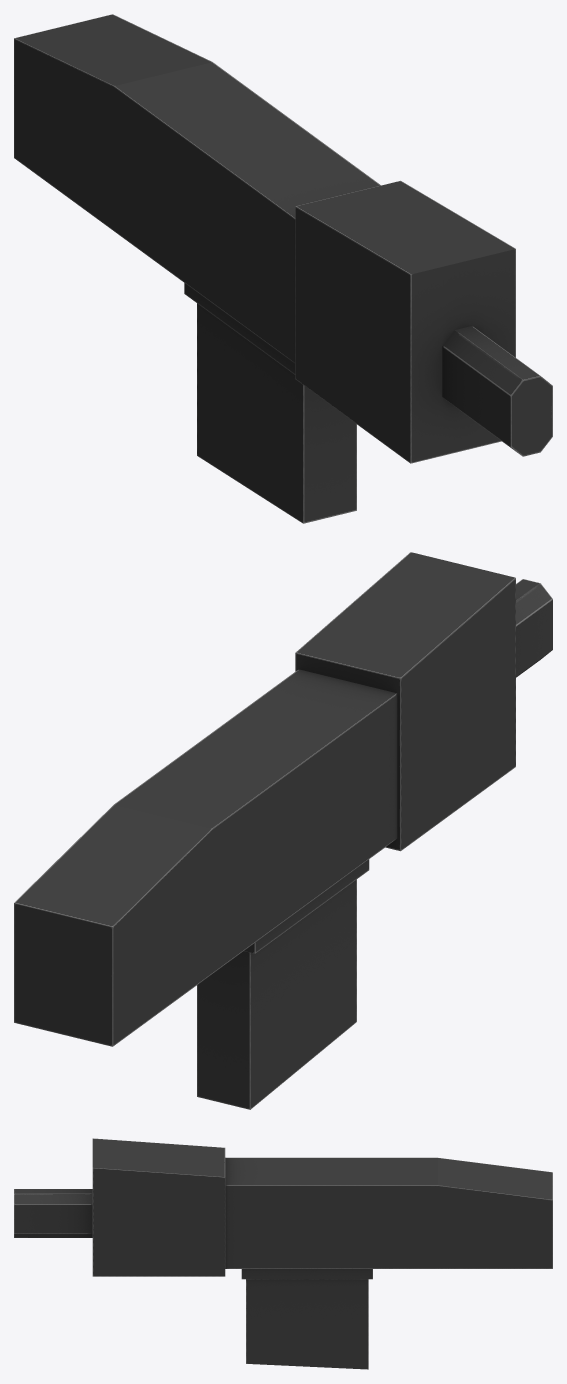
3 views of the same model, one above another, from view 1: azimuth 30°, elevation 25°; view 2: azimuth 150°, elevation 25°; view 3: azimuth 270°, elevation 25° (orthographic). The views are drawn at different scales.
Parts seen in each view (by area): view 1: Cube.087; view 2: Cube.087; view 3: Cube.087.
Boxes of the visible parts, <box> form: Cube.087: <box>14,14,552,523</box>; Cube.087: <box>14,552,552,1109</box>; Cube.087: <box>14,1138,552,1369</box>.
Bounding box in the file's own units: 0.4277 × 1.41 × 3.29.
Materials: 1 (1 with a texture image).
